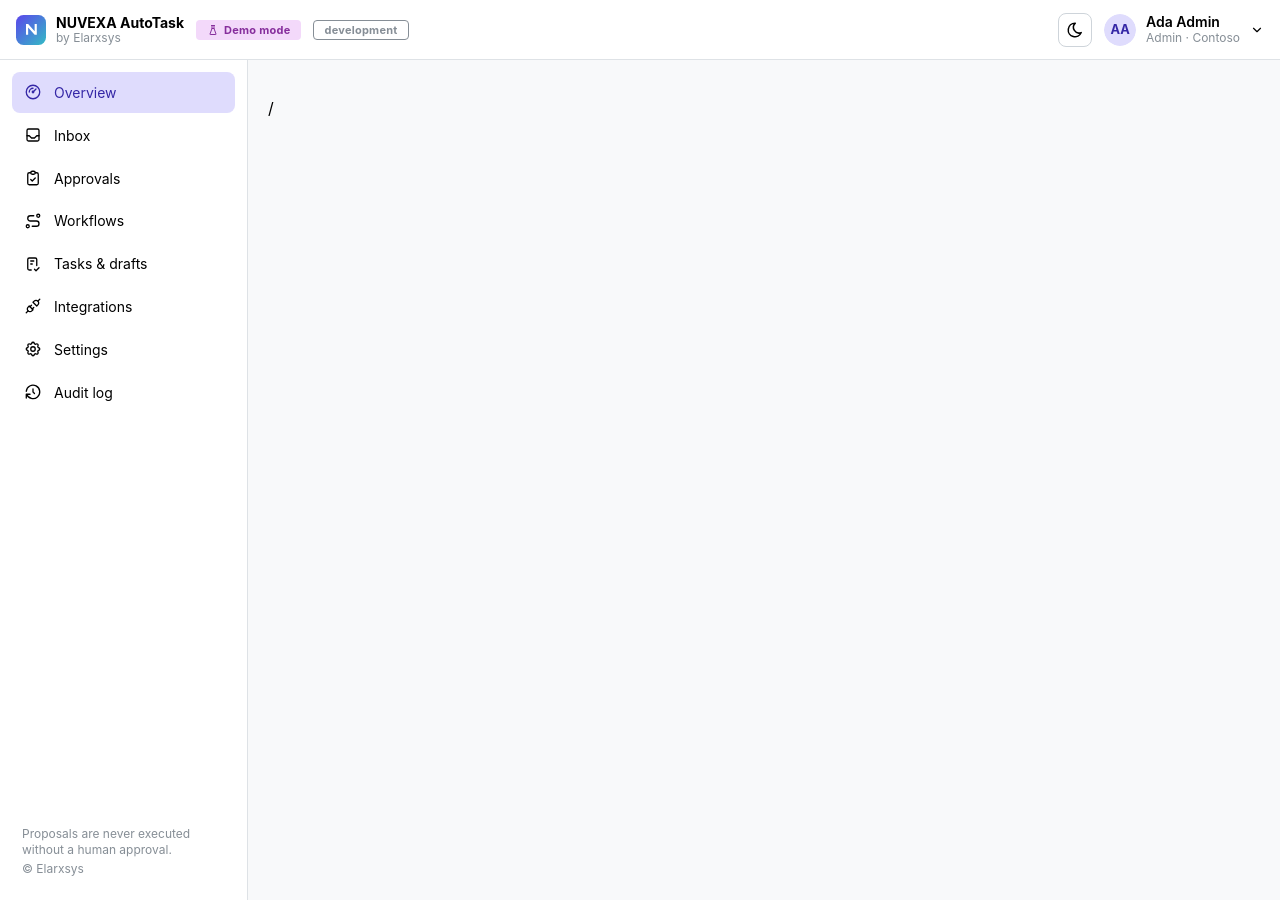
Test: <AppLayout> account menu › opens on click and shows email, role and tenant
This screenshot has width=1280, height=900.
Click the button with aria-label "Account menu for Ada Admin": (1184,30) [1104,14,1264,46]
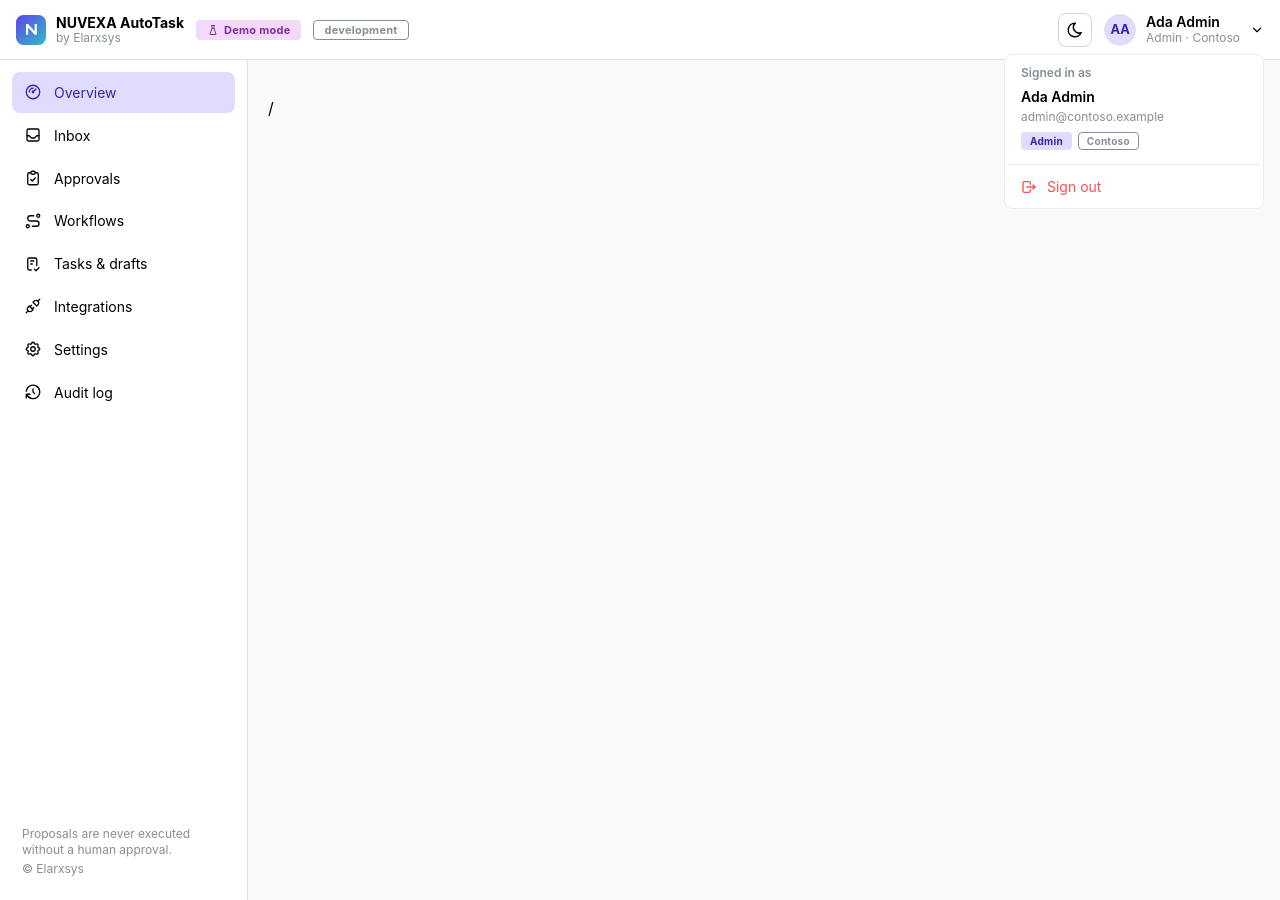
Expected: the text "Signed in as" is shown, [1021,64,1091,80]
Expected: the text "admin@contoso.example" is shown, [1021,109,1164,124]
Expected: the text "Admin" is shown, [1030,133,1063,149]
